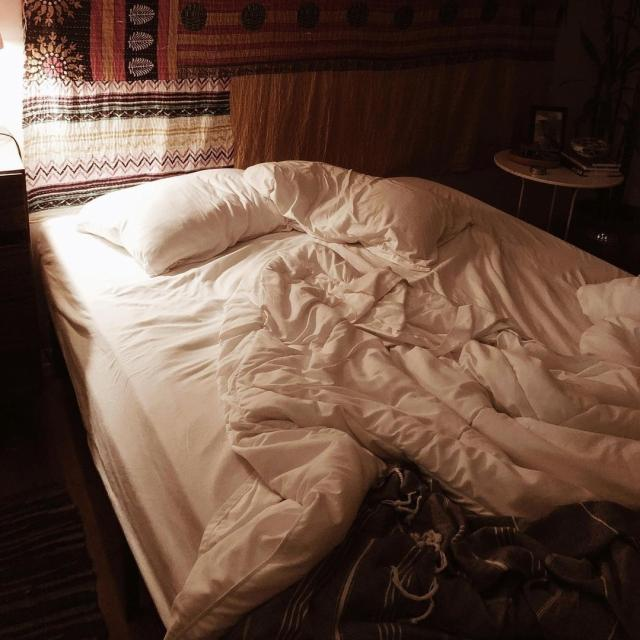bed: (45, 146, 640, 640)
